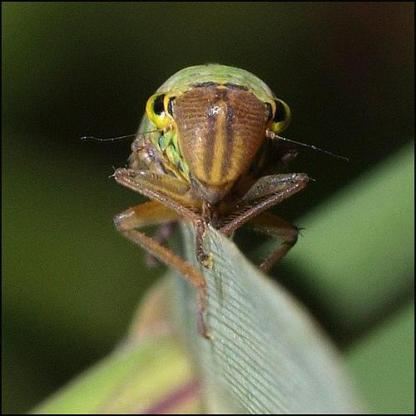Green-Leafhopper: (99, 54, 332, 294)
